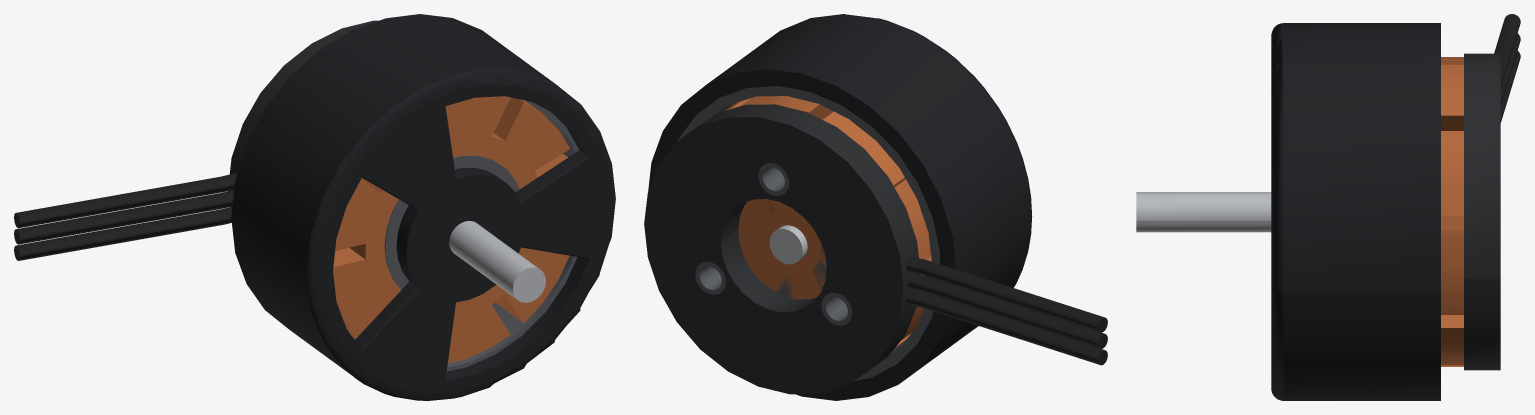
File: generic-1103-15000kv.glb
The picture shows the model from 3 angles, left to right: view 1: azimuth 30°, elevation 25°; view 2: azimuth 150°, elevation 25°; view 3: azimuth 270°, elevation 25°; orthographic projection. The views are drawn at different scales.
Parts seen in each view (by area): view 1: bell, stator_windings, shaft, lead_3, lead_2, lead_1, magnets, base, stator_core; view 2: base, bell, stator_windings, magnets, lead_3, lead_1, lead_2, shaft, mount_hole_1, mount_hole_2, mount_hole_3, stator_core; view 3: bell, base, stator_windings, shaft, lead_3, lead_1, lead_2.
Part boxes in pixels (<box>): bell: <box>231,14,615,400</box>; stator_windings: <box>333,96,569,363</box>; shaft: <box>449,221,545,302</box>; lead_3: <box>14,172,237,228</box>; lead_2: <box>14,190,233,244</box>; lead_1: <box>14,206,232,260</box>; magnets: <box>352,100,579,371</box>; base: <box>228,20,378,191</box>; stator_core: <box>384,155,519,302</box>; base: <box>644,104,920,394</box>; bell: <box>648,14,1032,400</box>; stator_windings: <box>724,96,931,346</box>; magnets: <box>678,86,939,380</box>; lead_3: <box>906,256,1107,332</box>; lead_1: <box>906,289,1107,365</box>; lead_2: <box>908,273,1107,348</box>; shaft: <box>769,225,807,264</box>; mount_hole_1: <box>758,163,789,195</box>; mount_hole_2: <box>821,292,852,325</box>; mount_hole_3: <box>695,262,726,294</box>; stator_core: <box>764,199,826,299</box>; bell: <box>1271,23,1440,400</box>; base: <box>1464,53,1500,370</box>; stator_windings: <box>1441,57,1463,366</box>; shaft: <box>1136,192,1271,232</box>; lead_3: <box>1494,14,1520,88</box>; lead_1: <box>1500,51,1520,122</box>; lead_2: <box>1500,33,1520,105</box>.
Size of the model in its own units: 22.22 by 14 by 14.24.
